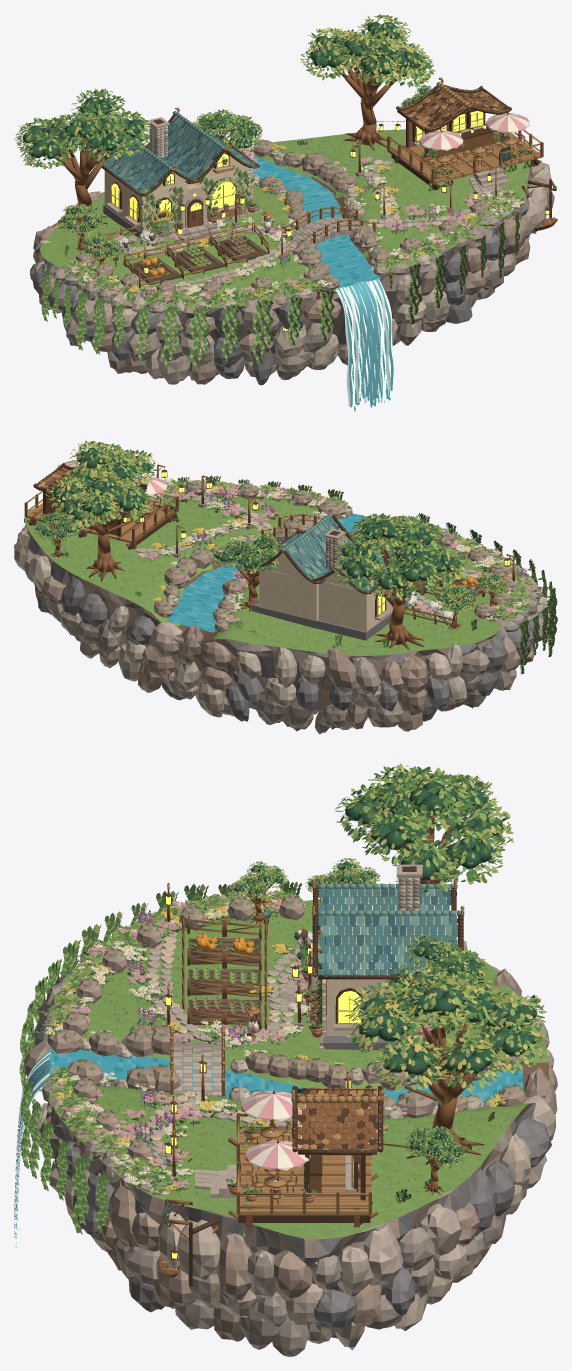
Rendered from island_dusk_living.glb.
3 views of the same model, one above another, from view 1: azimuth 30°, elevation 25°; view 2: azimuth 150°, elevation 25°; view 3: azimuth 270°, elevation 25° (orthographic). The views are drawn at different scales.
Visible parts, largest first — view 1: island_scenery, waterfall_ribbons, stream_surface; view 2: island_scenery, stream_surface; view 3: island_scenery, stream_surface, waterfall_ribbons.
Part boxes in pixels (x1,y1,x2,y2): island_scenery: (14, 14, 556, 385); waterfall_ribbons: (335, 278, 394, 411); stream_surface: (250, 155, 381, 289); island_scenery: (14, 440, 557, 734); stream_surface: (167, 513, 379, 632); island_scenery: (19, 763, 557, 1356); stream_surface: (49, 1047, 522, 1105); waterfall_ribbons: (14, 1049, 53, 1247).
Size of the model in its own units: 47.82 by 23.19 by 30.
48 materials, 18 textured.
